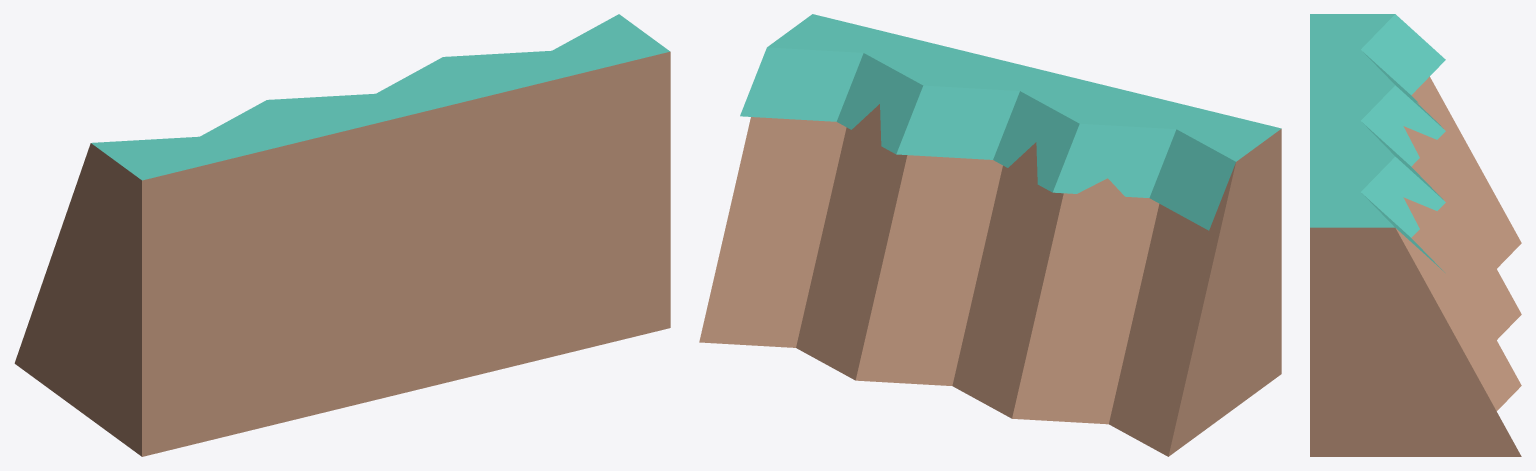
Rendered from cliff_half_rock.glb.
3 views of the same model, side by side, from view 1: azimuth 30°, elevation 25°; view 2: azimuth 150°, elevation 25°; view 3: azimuth 270°, elevation 25° (orthographic). The views are drawn at different scales.
Parts seen in each view (by area): view 1: cliff_half_rock; view 2: cliff_half_rock; view 3: cliff_half_rock.
Boxes of the visible parts, x1=… form: cliff_half_rock: x1=14, y1=14, x2=670, y2=456; cliff_half_rock: x1=699, y1=14, x2=1281, y2=456; cliff_half_rock: x1=1310, y1=14, x2=1521, y2=456.
Bounding box in the file's own units: 1 × 0.5 × 0.4185.
